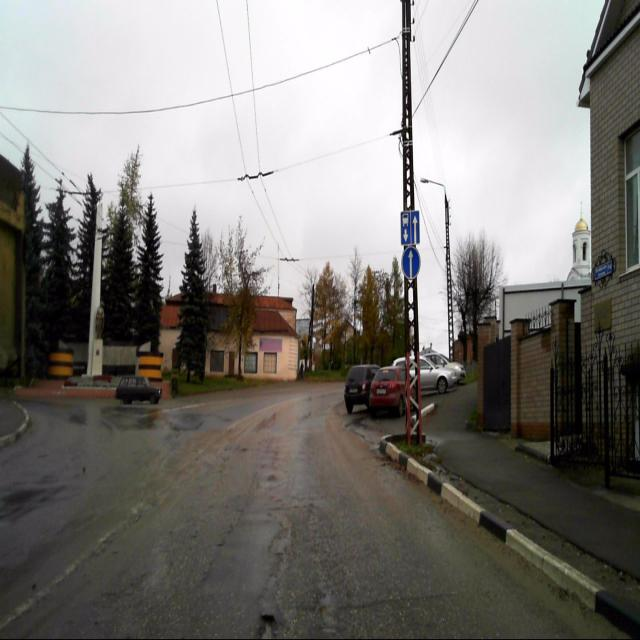road sign: (400, 211, 420, 245)
